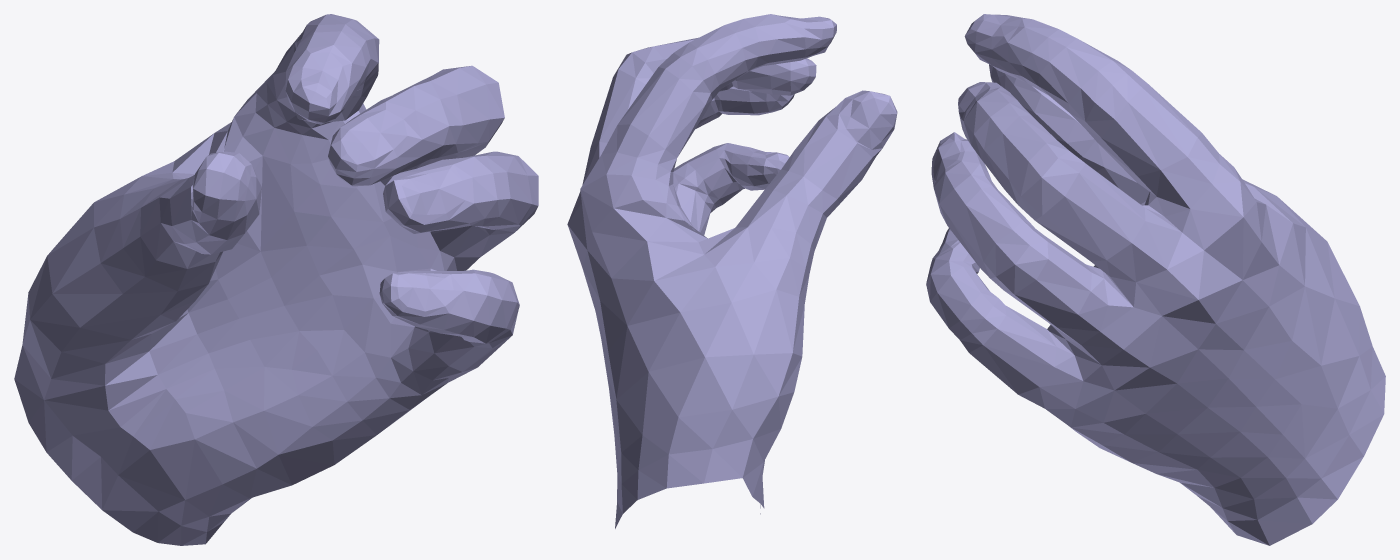
The model's file is hand_0055.glb.
The picture shows the model from 3 angles, left to right: view 1: azimuth 30°, elevation 25°; view 2: azimuth 150°, elevation 25°; view 3: azimuth 270°, elevation 25°; orthographic projection. The views are drawn at different scales.
Parts seen in each view (by area): view 1: world; view 2: world; view 3: world.
Part boxes in pixels (x1,y1,x2,y2): world: (14, 14, 538, 545); world: (567, 14, 897, 528); world: (926, 14, 1385, 545).
Size of the model in its own units: 0.09 by 0.1416 by 0.1155.
